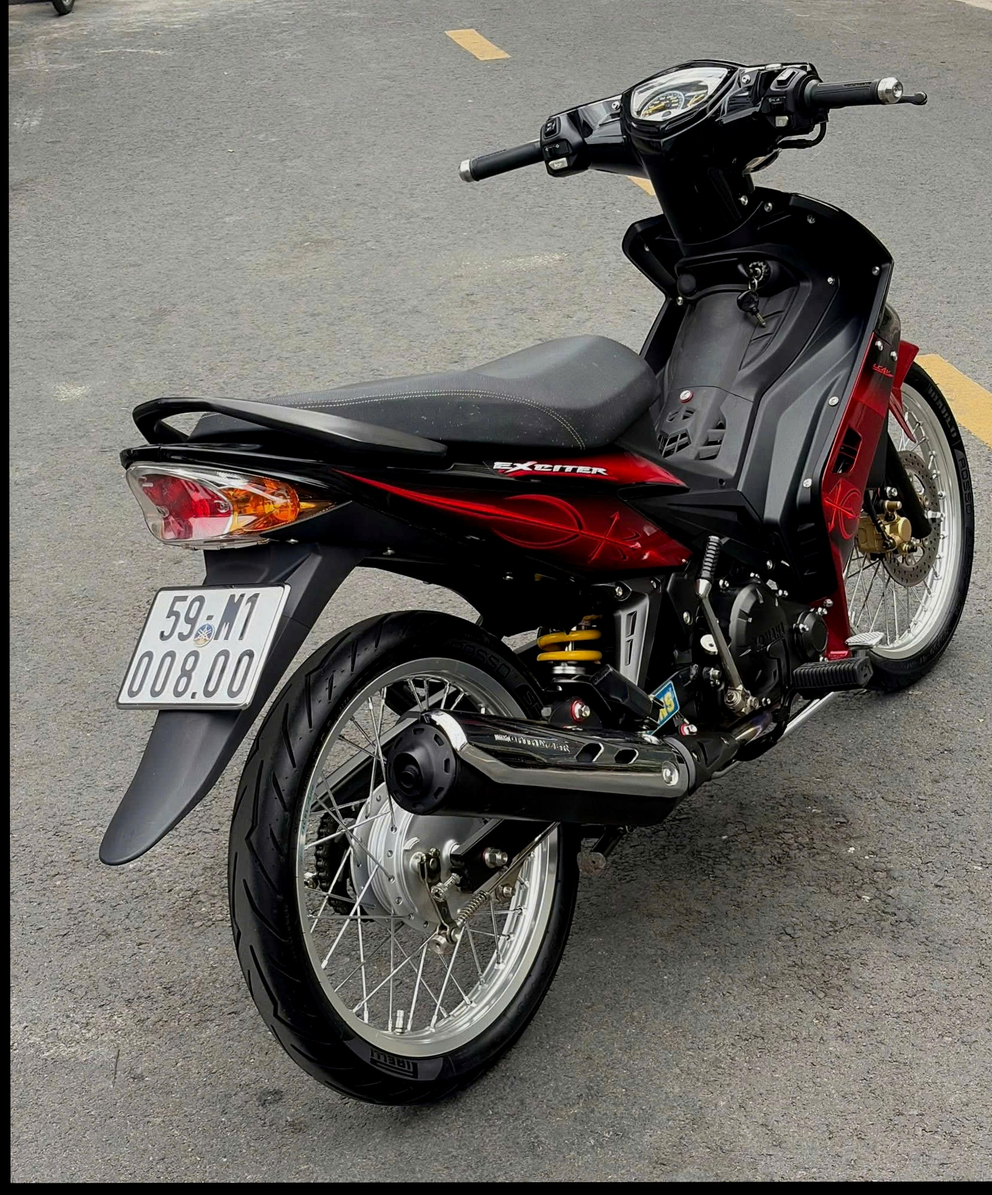Bien-so: (113, 589, 295, 715)
